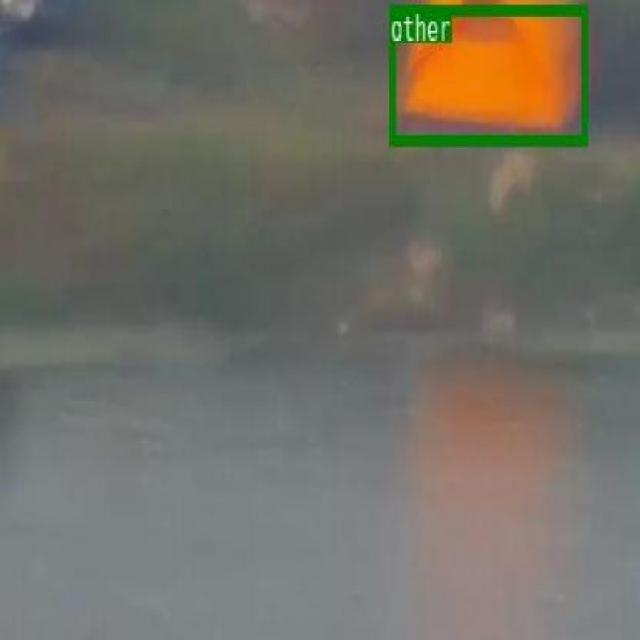other: (389, 3, 586, 142)
